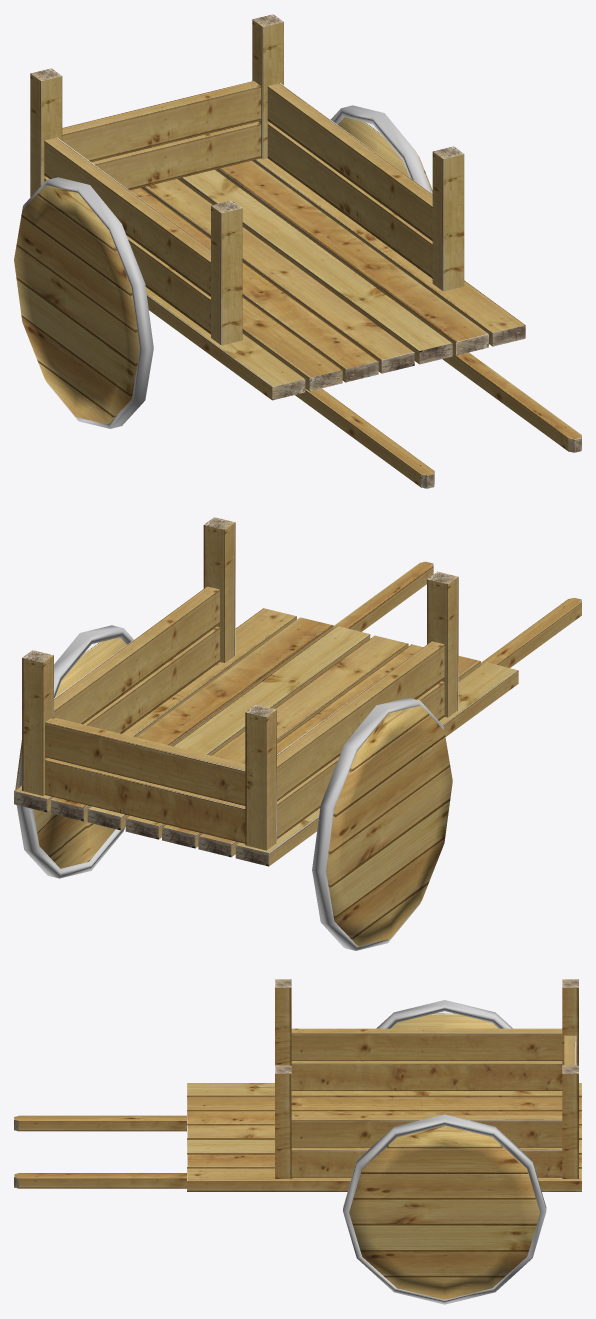
The model's file is Cart1.fbx.
The picture shows the model from 3 angles, top to bottom: view 1: azimuth 30°, elevation 25°; view 2: azimuth 150°, elevation 25°; view 3: azimuth 270°, elevation 25°; orthographic projection. The views are drawn at different scales.
Visible parts, largest first — view 1: Cube.006; view 2: Cube.006; view 3: Cube.006.
Part boxes in pixels (x1,y1,x2,y2): Cube.006: (14, 14, 581, 488); Cube.006: (14, 517, 581, 950); Cube.006: (14, 979, 581, 1304).
Bounding box in the file's own units: 402 × 339 × 791.
